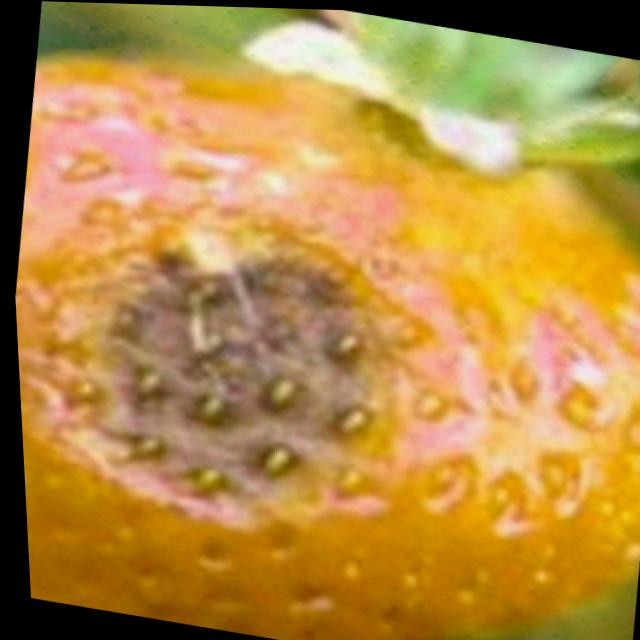Anthracnose Fruit Rot: (24, 220, 401, 513)
